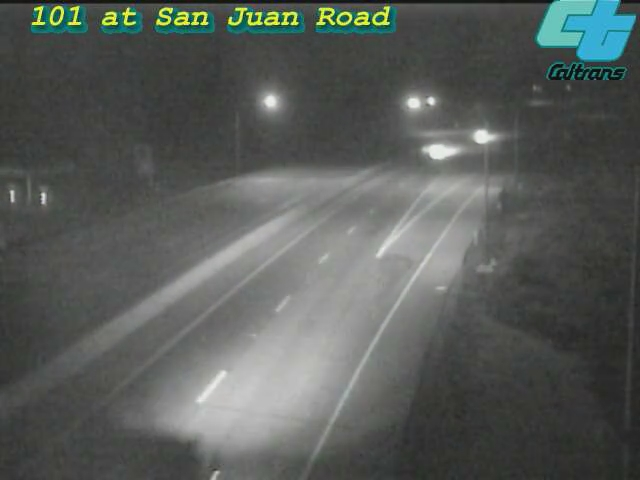vehicle: (74, 414, 184, 480), (457, 113, 507, 163), (418, 124, 468, 174)
